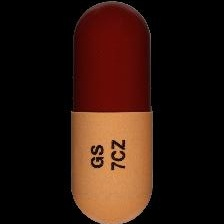54868-6328: (0, 0, 224, 224)
